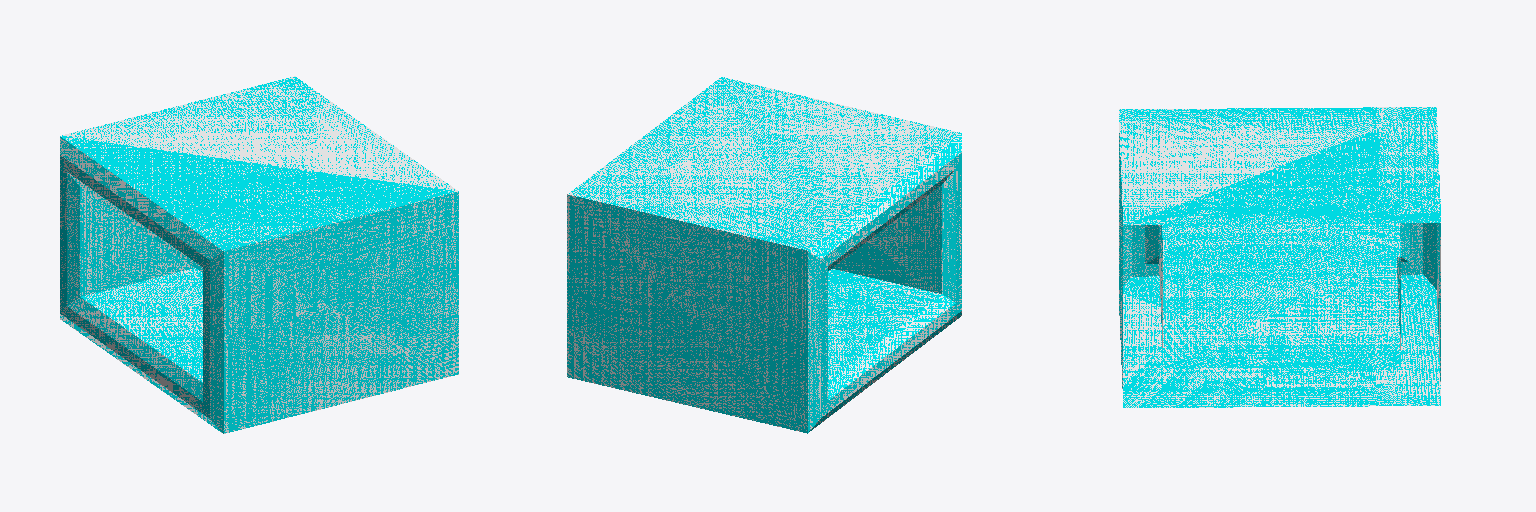
The model's file is original-97.obj.
3 views of the same model, side by side, from view 1: azimuth 30°, elevation 25°; view 2: azimuth 150°, elevation 25°; view 3: azimuth 270°, elevation 25° (orthographic).
Parts seen in each view (by area): view 1: mesh96/mesh96-geometry#mesh96-geometry; view 2: mesh96/mesh96-geometry#mesh96-geometry; view 3: mesh96/mesh96-geometry#mesh96-geometry.
Part boxes in pixels (bbox=[...]): mesh96/mesh96-geometry#mesh96-geometry: bbox=[60, 76, 458, 433]; mesh96/mesh96-geometry#mesh96-geometry: bbox=[567, 77, 961, 433]; mesh96/mesh96-geometry#mesh96-geometry: bbox=[1119, 107, 1440, 407].
Size of the model in its own units: 0.0362 by 0.0254 by 0.0406.